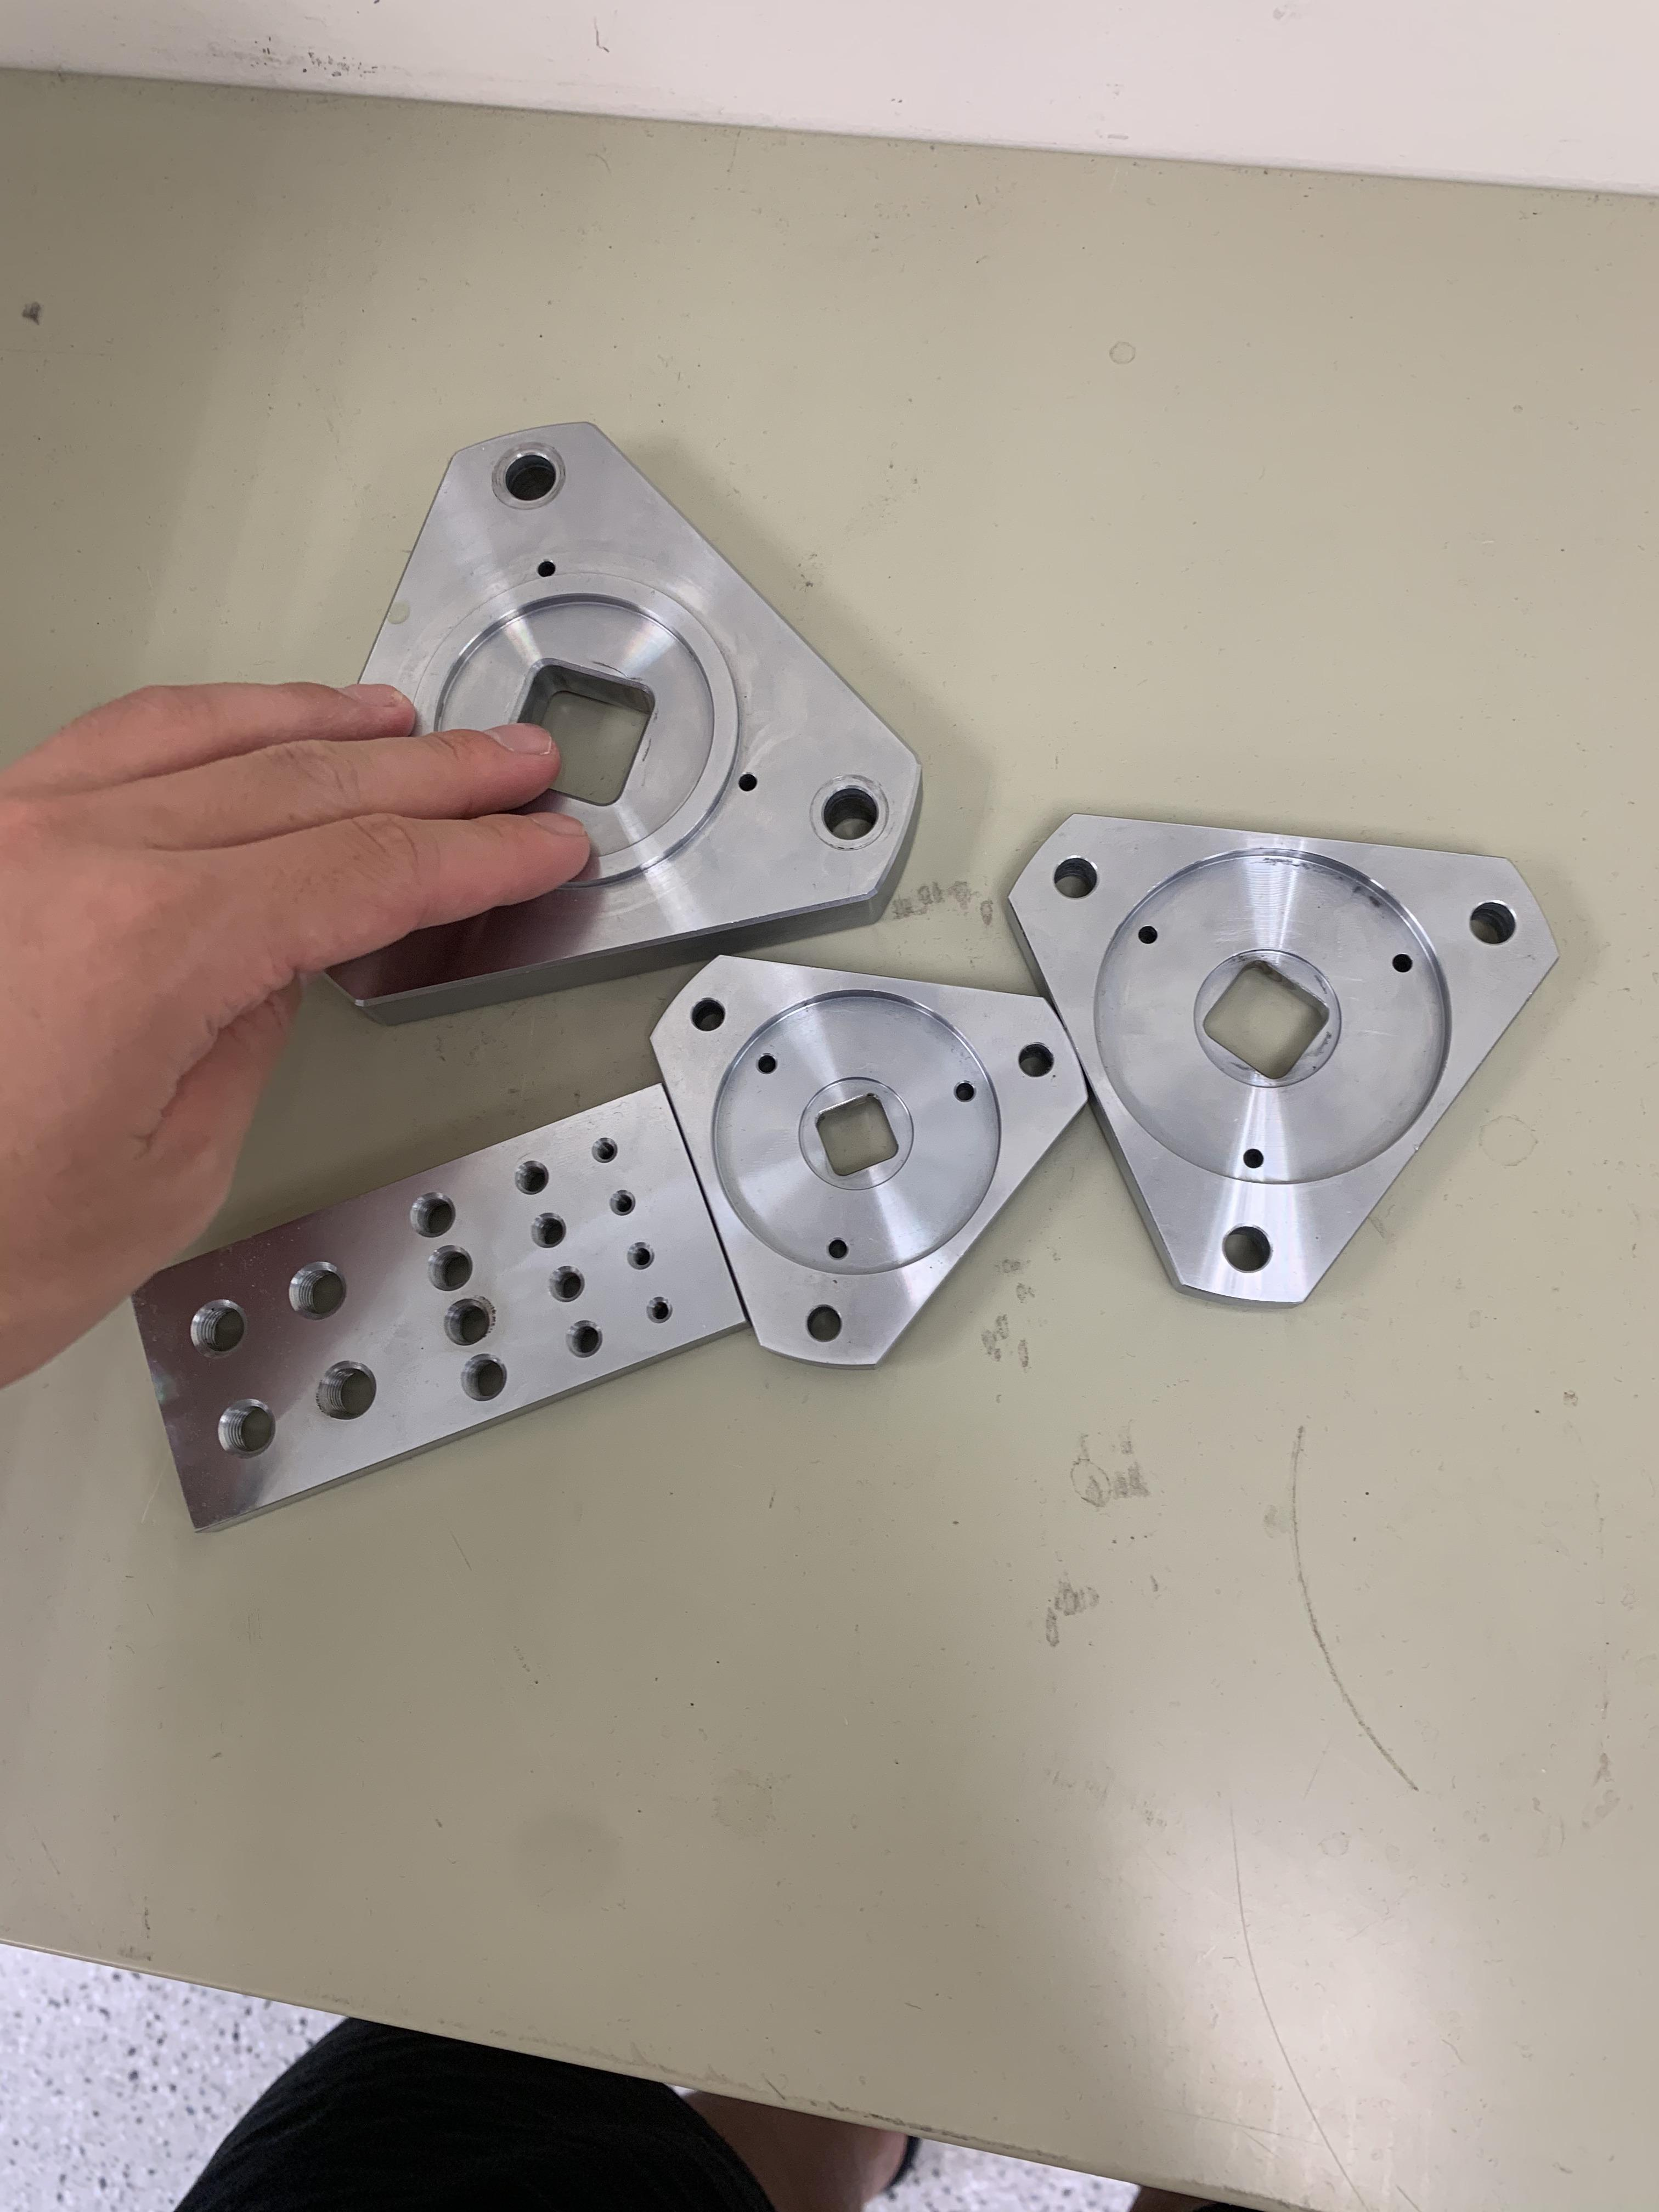hole: (807, 766, 894, 862), (300, 1350, 385, 1432), (272, 1251, 364, 1325), (491, 439, 575, 519), (211, 1388, 286, 1472), (174, 1291, 261, 1362), (1218, 1211, 1281, 1285), (1457, 892, 1527, 953), (451, 1352, 519, 1411), (434, 1294, 505, 1350), (1049, 846, 1105, 909), (397, 1186, 462, 1240), (415, 1240, 477, 1294), (1016, 1026, 1061, 1096), (802, 1294, 850, 1352), (559, 1317, 613, 1366), (505, 1153, 556, 1204), (687, 991, 732, 1047), (528, 1209, 575, 1254), (545, 1261, 587, 1306), (638, 1291, 676, 1329), (821, 1231, 856, 1268), (1236, 1141, 1270, 1174), (591, 1129, 620, 1167), (610, 1191, 641, 1226), (622, 1242, 659, 1271), (751, 1047, 781, 1082), (951, 1076, 981, 1109), (1389, 951, 1420, 975), (1136, 923, 1162, 951)
